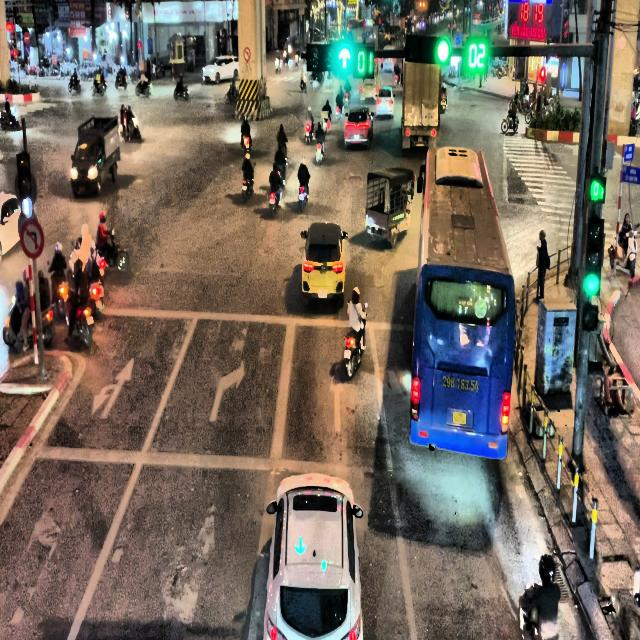BUS: (409, 145, 515, 459)
CAR: (263, 472, 364, 640), (300, 221, 348, 306), (344, 106, 373, 150), (202, 54, 239, 84), (375, 86, 395, 117)
MOTORBIKE: (60, 282, 94, 350), (343, 302, 368, 378), (98, 228, 129, 273), (518, 582, 540, 640), (120, 115, 141, 142), (269, 184, 283, 218), (501, 110, 519, 134), (298, 180, 309, 212), (242, 175, 254, 203), (136, 80, 152, 98), (173, 82, 189, 100), (91, 79, 106, 96), (241, 132, 251, 157), (304, 119, 314, 144), (225, 85, 238, 104), (315, 138, 324, 164), (115, 72, 127, 89), (68, 78, 80, 93), (335, 102, 342, 121), (300, 72, 307, 91), (274, 58, 282, 74)
TRUCK: (70, 115, 120, 197)
